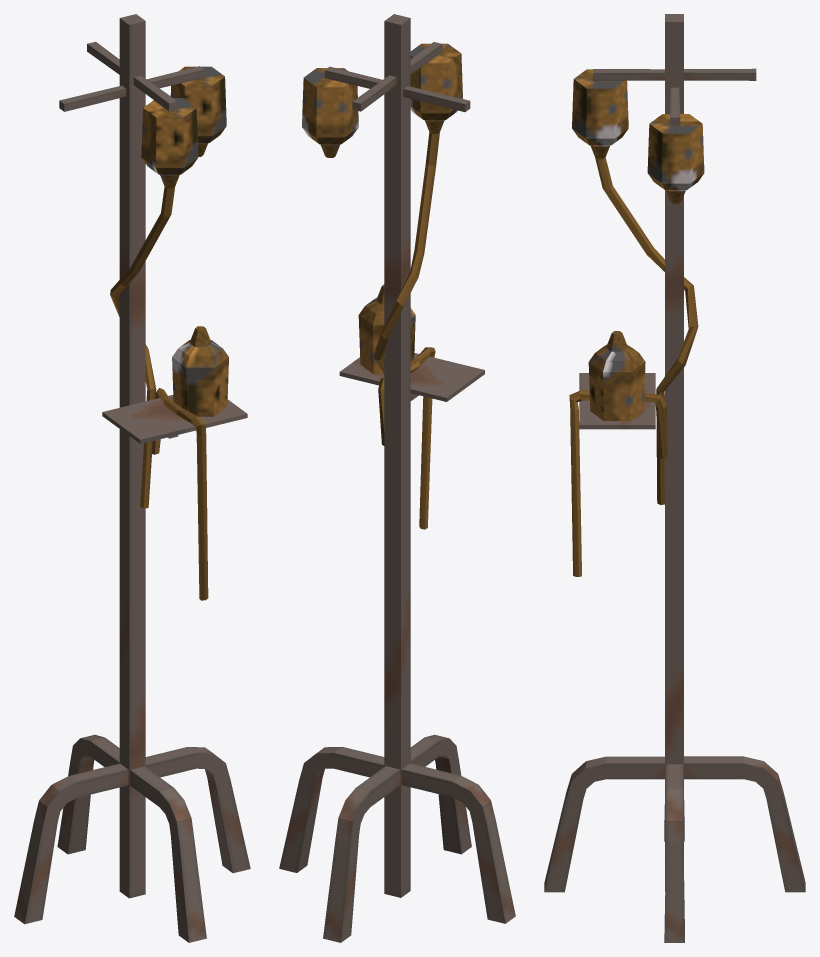
File: obj_dripStand.fbx
3 views of the same model, side by side, from view 1: azimuth 30°, elevation 25°; view 2: azimuth 150°, elevation 25°; view 3: azimuth 270°, elevation 25° (orthographic).
Parts seen in each view (by area): view 1: obj_drip stand; view 2: obj_drip stand; view 3: obj_drip stand.
Boxes of the visible parts, bbox=[...] form: obj_drip stand: bbox=[14, 14, 250, 942]; obj_drip stand: bbox=[279, 14, 515, 942]; obj_drip stand: bbox=[544, 14, 805, 942].
Size of the model in its own units: 50.19 by 185 by 50.42.
